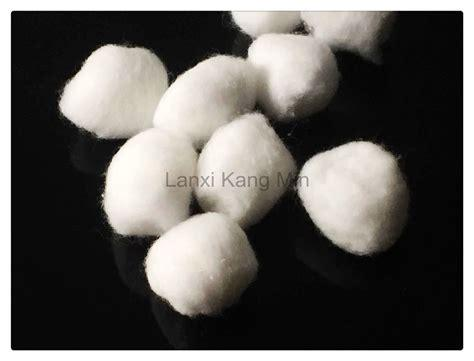cotton: (293, 140, 403, 259), (144, 212, 258, 314), (198, 114, 297, 222), (106, 127, 198, 243), (59, 43, 169, 140), (155, 54, 257, 148), (249, 32, 335, 120), (296, 9, 384, 45), (229, 9, 306, 38)
